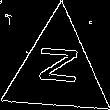N_W: (33, 49, 82, 92)
